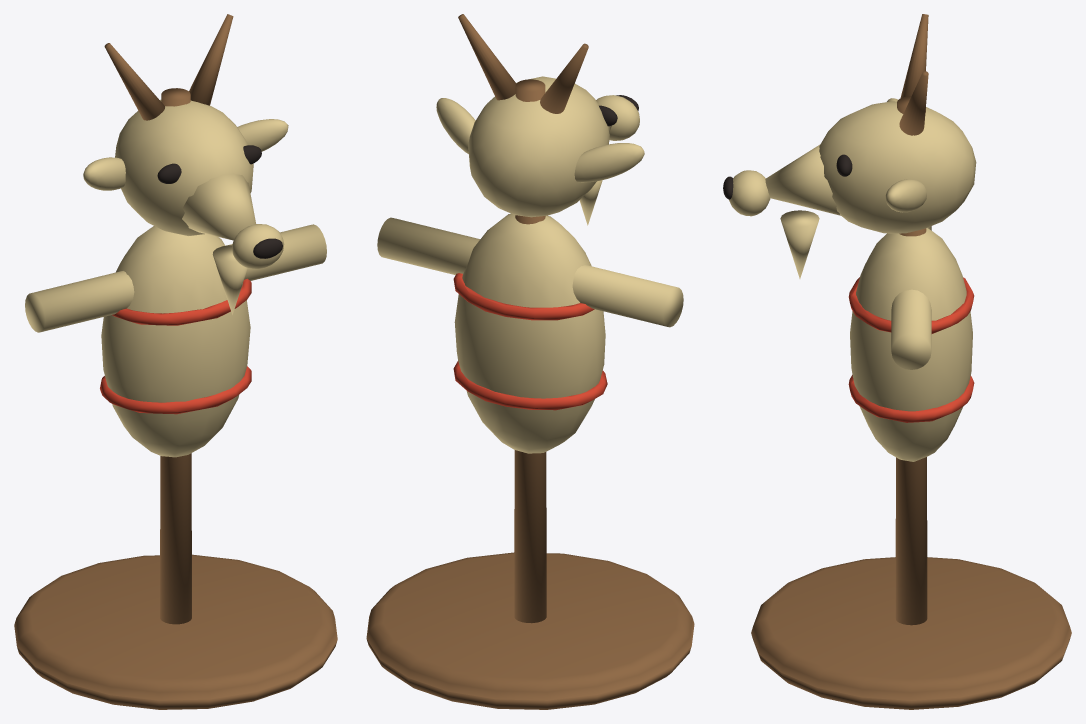
Rendered from Effigy.fbx.
3 renders of one model, left to right at view 1: azimuth 30°, elevation 25°; view 2: azimuth 150°, elevation 25°; view 3: azimuth 270°, elevation 25°, orthographic. The views are drawn at different scales.
Parts seen in each view (by area): view 1: Effigy; view 2: Effigy; view 3: Effigy.
Boxes of the visible parts, x1,y1,x2,y2 form: Effigy: [14, 14, 337, 709]; Effigy: [366, 14, 694, 709]; Effigy: [723, 14, 1071, 709].
Size of the model in its own units: 0.4 by 0.8321 by 0.4349.
